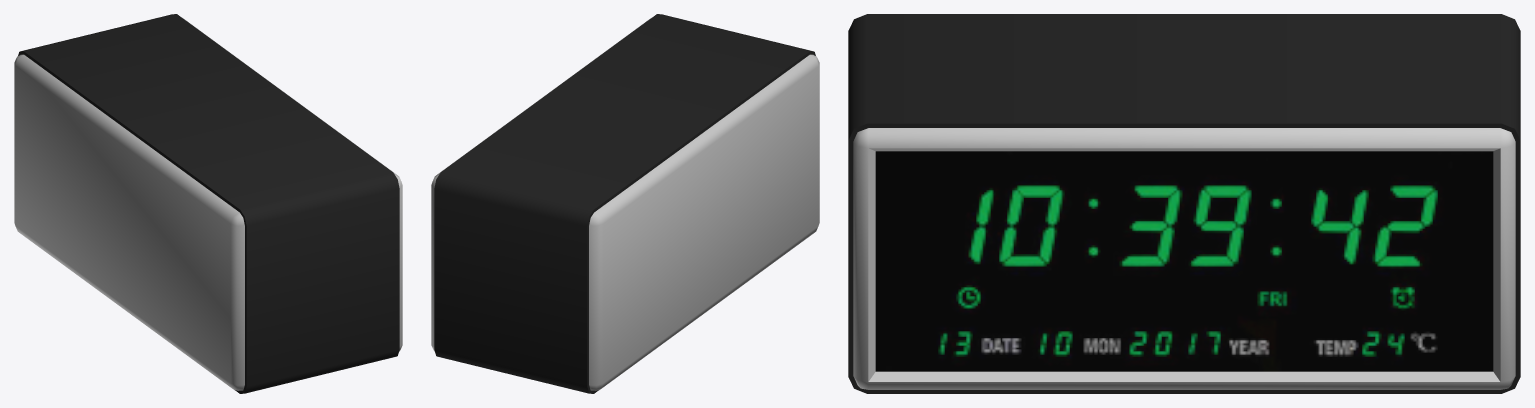
The model's file is table clock.FBX.
3 renders of one model, left to right at view 1: azimuth 30°, elevation 25°; view 2: azimuth 150°, elevation 25°; view 3: azimuth 270°, elevation 25°, orthographic. The views are drawn at different scales.
Visible parts, largest first — view 1: table clock; view 2: table clock; view 3: table clock.
Part boxes in pixels (box(x1,y1,x2,y2)): table clock: box(14, 14, 402, 393); table clock: box(431, 14, 819, 393); table clock: box(848, 14, 1520, 393).
Size of the model in its own units: 3.27 by 7.59 by 3.37.
Materials: 1 (1 with a texture image).
